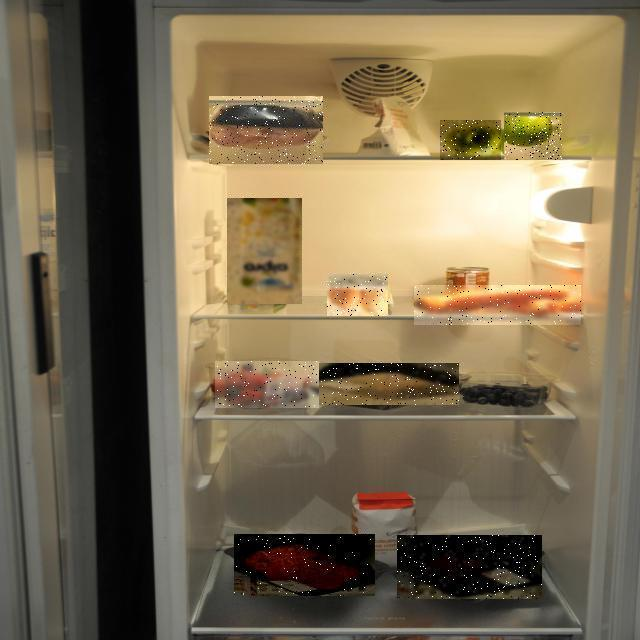Apple: (504, 112, 562, 160), (440, 120, 501, 160)
Carrot: (414, 285, 581, 325)
Eggs: (327, 274, 388, 316)
Meat: (397, 535, 542, 599), (234, 534, 375, 596), (209, 96, 323, 164), (319, 363, 459, 405)
Milk: (227, 198, 302, 304)
Tomatoes: (215, 361, 319, 408)
